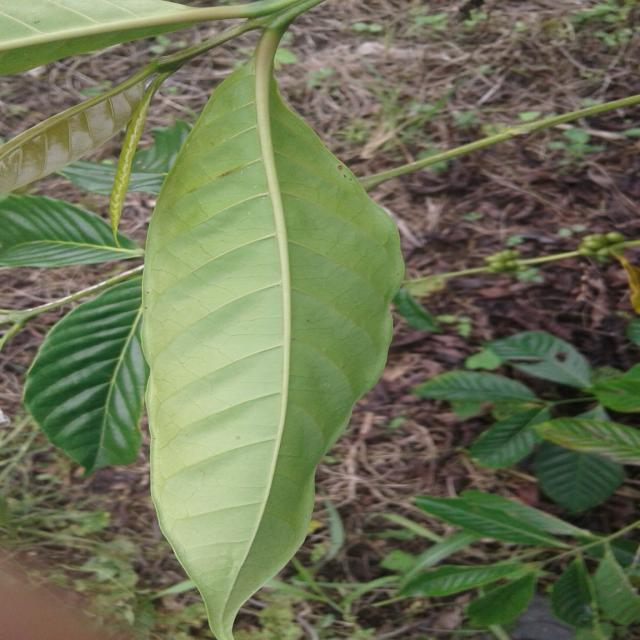Sanas: (136, 45, 424, 640)
